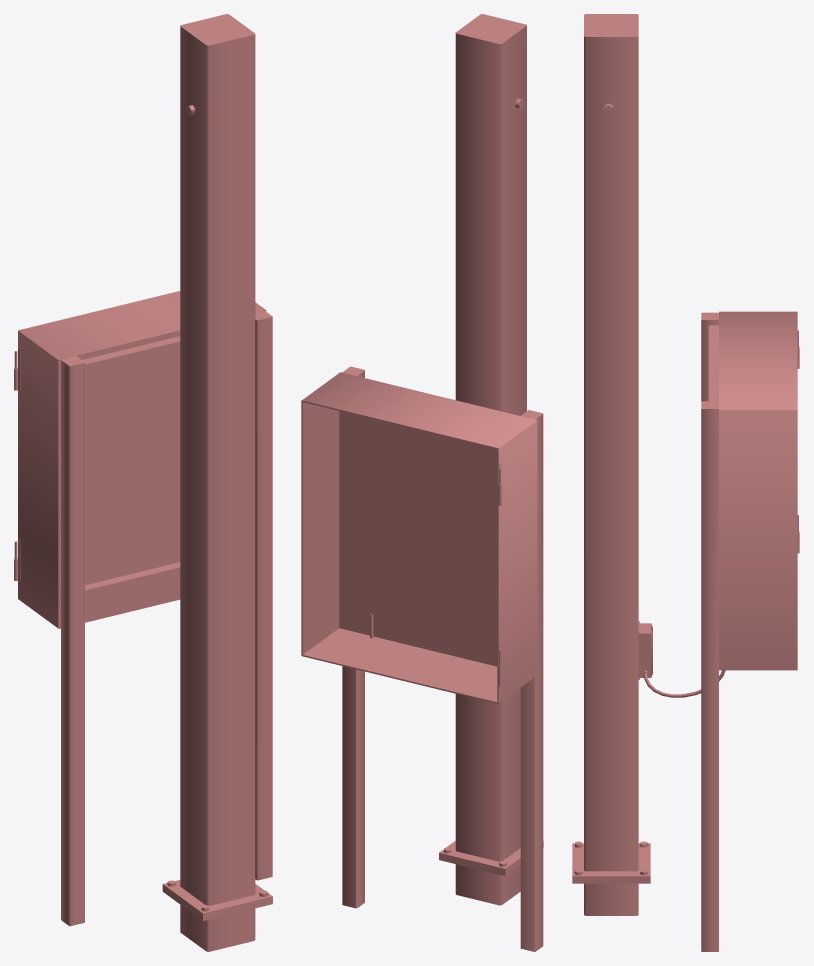
File: Panel_2_Base.fbx
The picture shows the model from 3 angles, left to right: view 1: azimuth 30°, elevation 25°; view 2: azimuth 150°, elevation 25°; view 3: azimuth 270°, elevation 25°; orthographic projection. The views are drawn at different scales.
Visible parts, largest first — view 1: Panel_2_Base_LOD0; view 2: Panel_2_Base_LOD0; view 3: Panel_2_Base_LOD0.
Boxes of the visible parts, box(x1,y1,x2,y2) form: Panel_2_Base_LOD0: box(14, 14, 272, 951); Panel_2_Base_LOD0: box(301, 14, 543, 951); Panel_2_Base_LOD0: box(572, 14, 799, 951).
Size of what is drawn, in the model's own units: 0.6703 by 2.75 by 0.6452.
